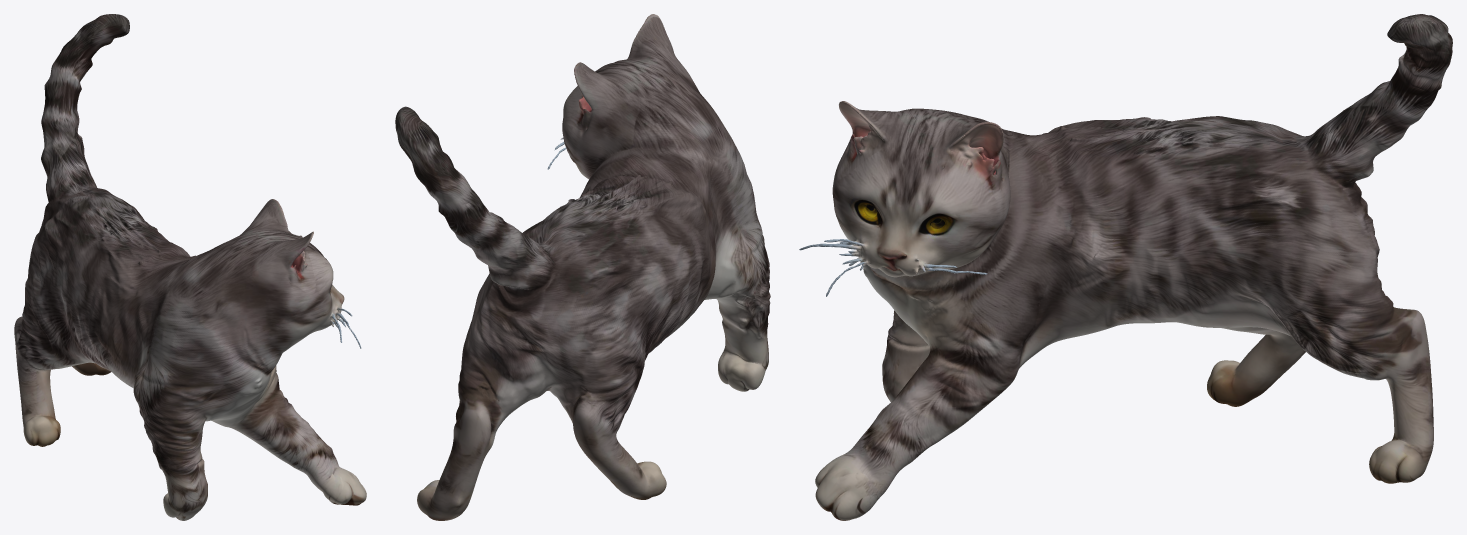
File: cat_run.glb
3 views of the same model, side by side, from view 1: azimuth 30°, elevation 25°; view 2: azimuth 150°, elevation 25°; view 3: azimuth 270°, elevation 25° (orthographic). The views are drawn at different scales.
Parts seen in each view (by area): view 1: tripo_node_029ca4d0-30f1-4bd8-8453-7b5f0dfb9691; view 2: tripo_node_029ca4d0-30f1-4bd8-8453-7b5f0dfb9691; view 3: tripo_node_029ca4d0-30f1-4bd8-8453-7b5f0dfb9691.
Boxes of the visible parts, x1,y1,x2,y2 form: tripo_node_029ca4d0-30f1-4bd8-8453-7b5f0dfb9691: (14, 14, 366, 520); tripo_node_029ca4d0-30f1-4bd8-8453-7b5f0dfb9691: (395, 14, 770, 520); tripo_node_029ca4d0-30f1-4bd8-8453-7b5f0dfb9691: (799, 14, 1452, 520).
Size of the model in its own units: 0.4877 by 0.8113 by 1.
Materials: 1 (1 with a texture image).
